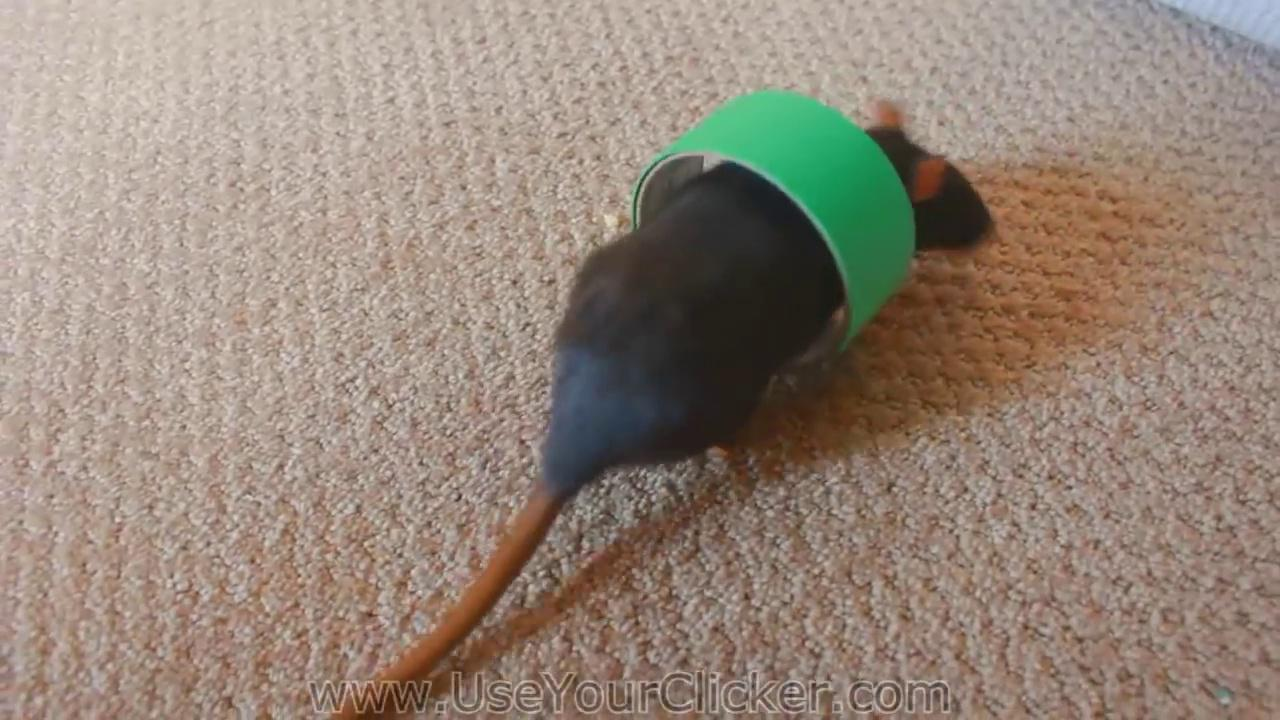rat: (540, 98, 996, 491)
